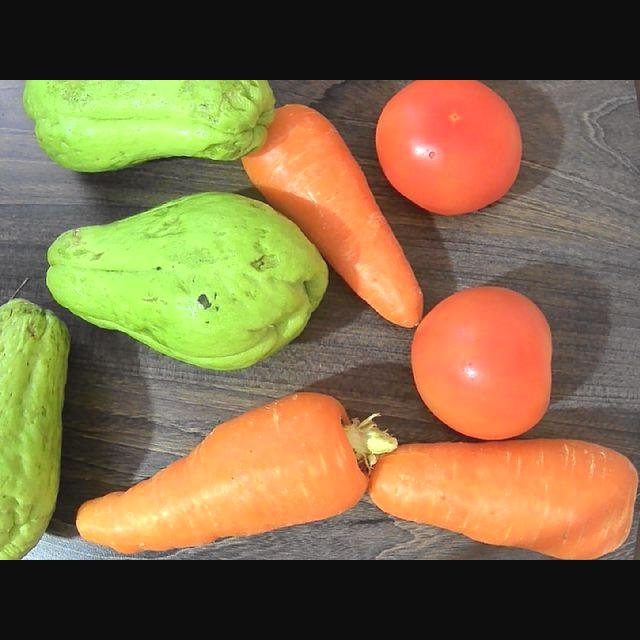chayote: (47, 192, 328, 370), (24, 80, 274, 172), (1, 299, 69, 559)
tomate: (412, 286, 551, 439), (377, 80, 522, 214)
zanahoria: (77, 392, 397, 553), (243, 104, 423, 326), (370, 439, 638, 559)
